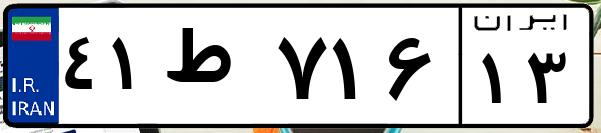1: (330, 28, 385, 110), (475, 38, 525, 113), (110, 28, 158, 98)
3: (525, 38, 570, 115)
4: (57, 26, 110, 100)
6: (385, 28, 445, 110)
7: (270, 28, 330, 110)
ط: (158, 20, 270, 120)
